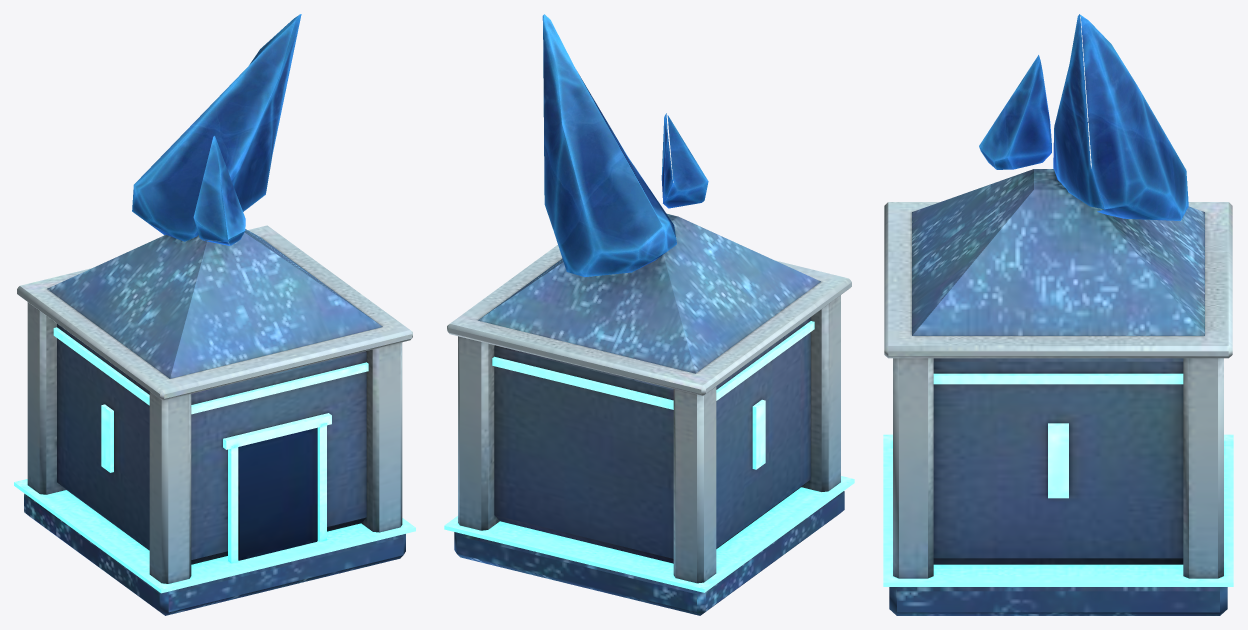
Rendered from bld1_frost.glb.
3 renders of one model, left to right at view 1: azimuth 30°, elevation 25°; view 2: azimuth 150°, elevation 25°; view 3: azimuth 270°, elevation 25°, orthographic. The views are drawn at different scales.
Visible parts, largest first — view 1: bld1_frost; view 2: bld1_frost; view 3: bld1_frost.
Boxes of the visible parts, <box> form: bld1_frost: <box>14,14,415,615</box>; bld1_frost: <box>444,14,854,615</box>; bld1_frost: <box>883,14,1233,615</box>.
Size of the model in its own units: 3.62 by 6.71 by 3.62.
2 materials, 2 textured.
